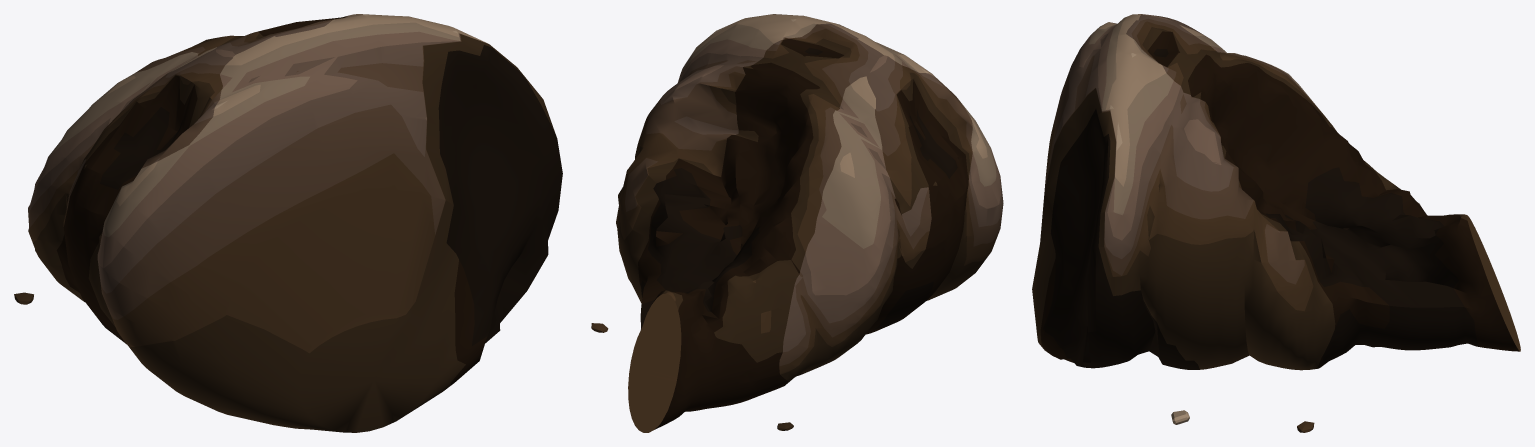
Rendered from coral_shell_base_wreck.glb.
The picture shows the model from 3 angles, left to right: view 1: azimuth 30°, elevation 25°; view 2: azimuth 150°, elevation 25°; view 3: azimuth 270°, elevation 25°; orthographic projection. The views are drawn at different scales.
Visible parts, largest first — view 1: coral_shell_base_wreck; view 2: coral_shell_base_wreck; view 3: coral_shell_base_wreck.
Part boxes in pixels (x1,y1,x2,y2): coral_shell_base_wreck: (14, 14, 562, 432); coral_shell_base_wreck: (591, 14, 1003, 432); coral_shell_base_wreck: (1032, 14, 1520, 432).
Bounding box in the file's own units: 19.01 × 15.63 × 21.87.
